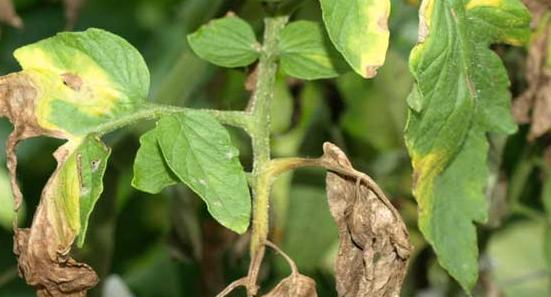Tomato Early blight leaf: (409, 0, 540, 297), (0, 13, 152, 139), (312, 0, 402, 90)
Tomato leaf: (146, 114, 259, 235)
